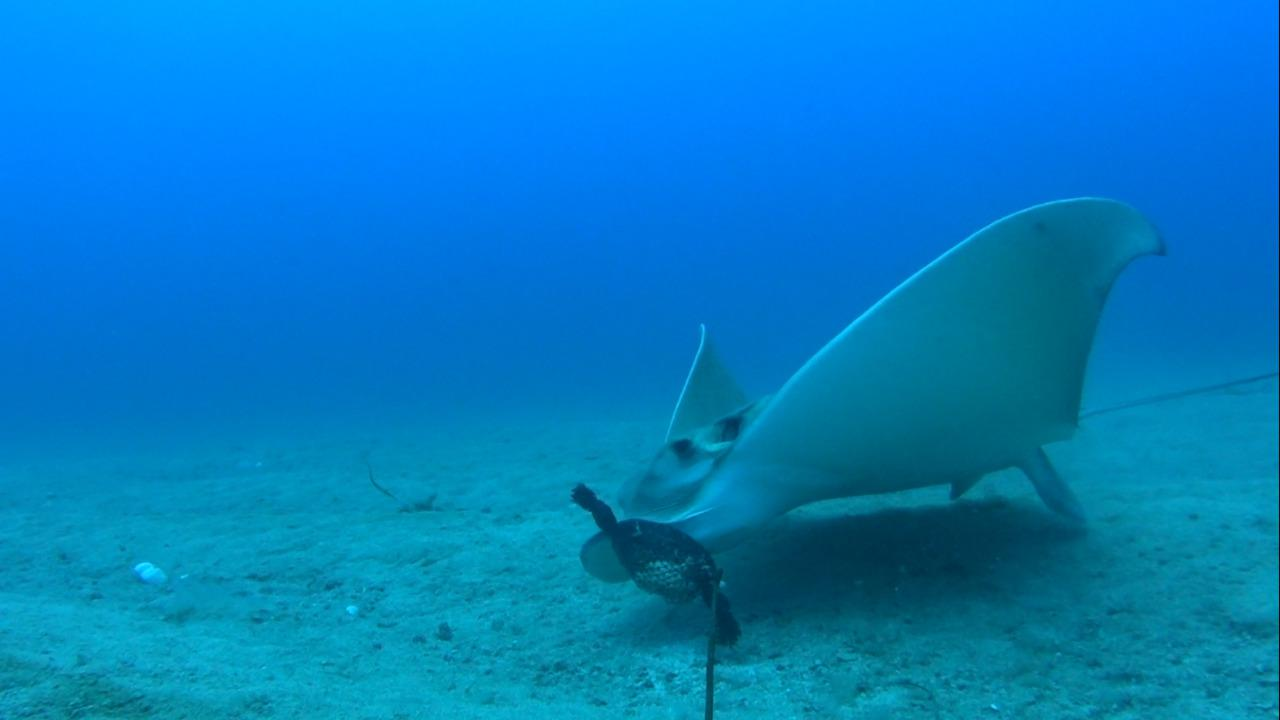myliobatis: (577, 190, 1279, 585)
